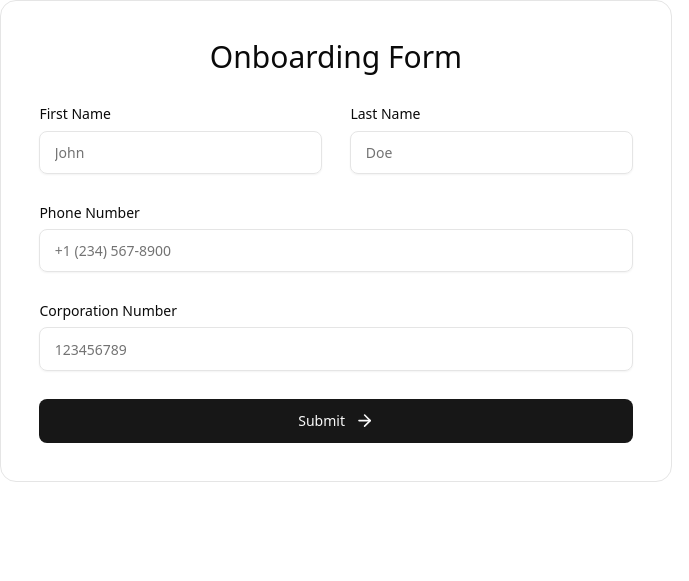
Test case: OnboardingForm › Form Submission › should show all validation errors on submit with empty form
Click the button "Submit" at (336, 421), box [39,400,633,443]
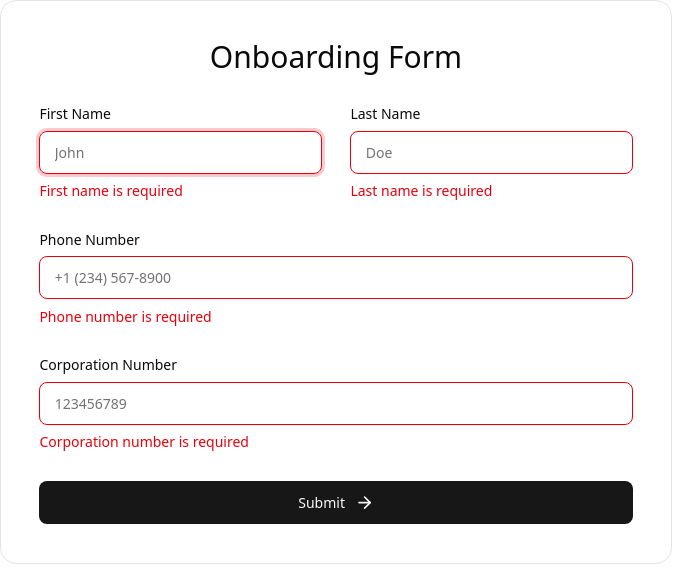
Result: the text "First name is required" is shown at [39,181,183,200]
Result: the text "Last name is required" is shown at [350,181,492,200]
Result: the text "Phone number is required" is shown at [39,307,212,326]
